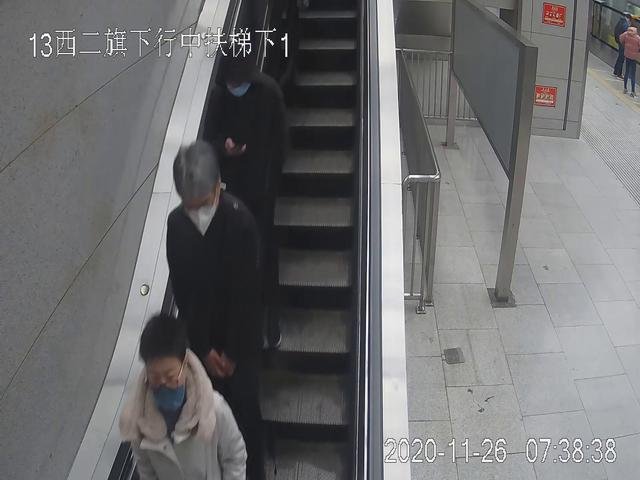person: (167, 144, 266, 480), (204, 40, 290, 348), (120, 316, 248, 480), (618, 23, 640, 99)
